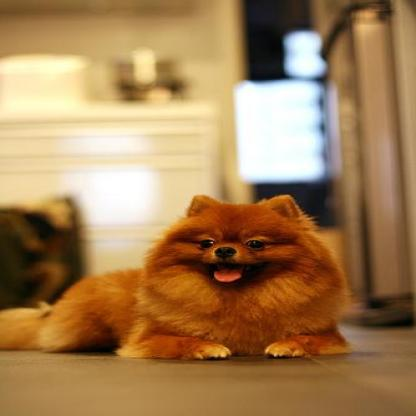Pomeranian: (0, 193, 354, 359)
